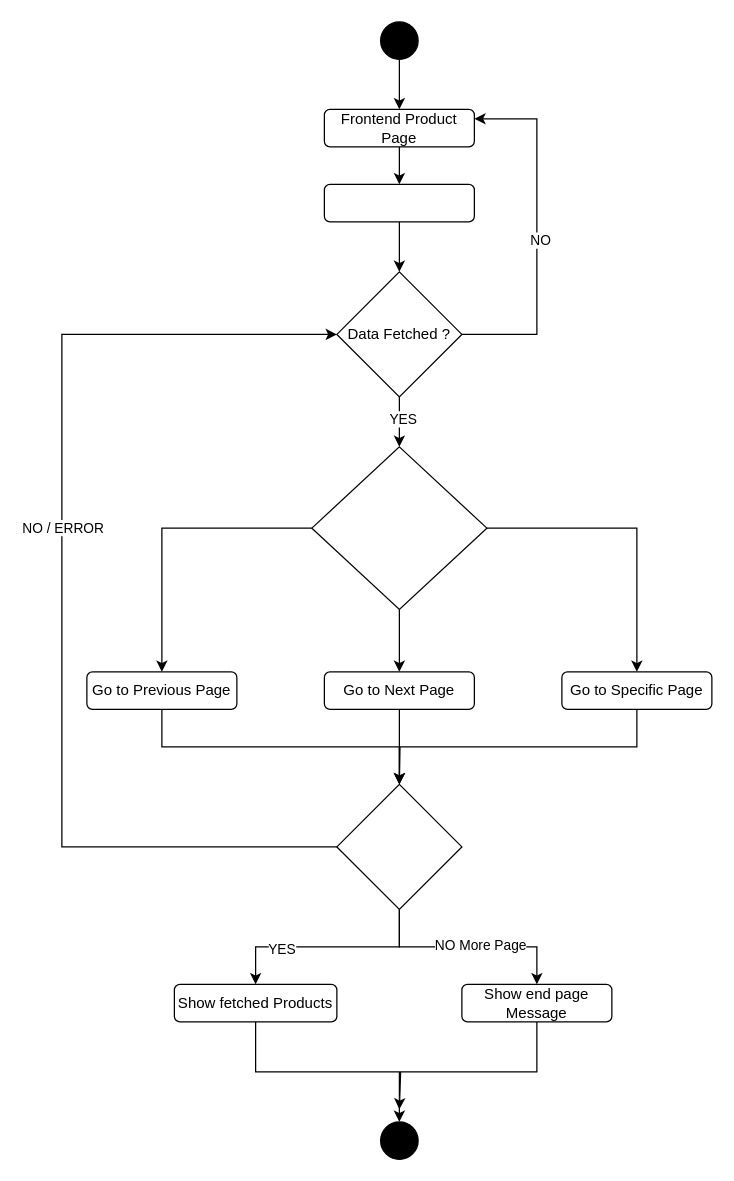
Some shapes in this 734 by 1181 pixel diagram are drawn without their labels. Each missing label, with the centre of its shape:
"Data Fetched" goes at point (399, 846).
"Fetch Data" goes at point (398, 202).
"User Interaction with Navigation" goes at point (399, 527).
